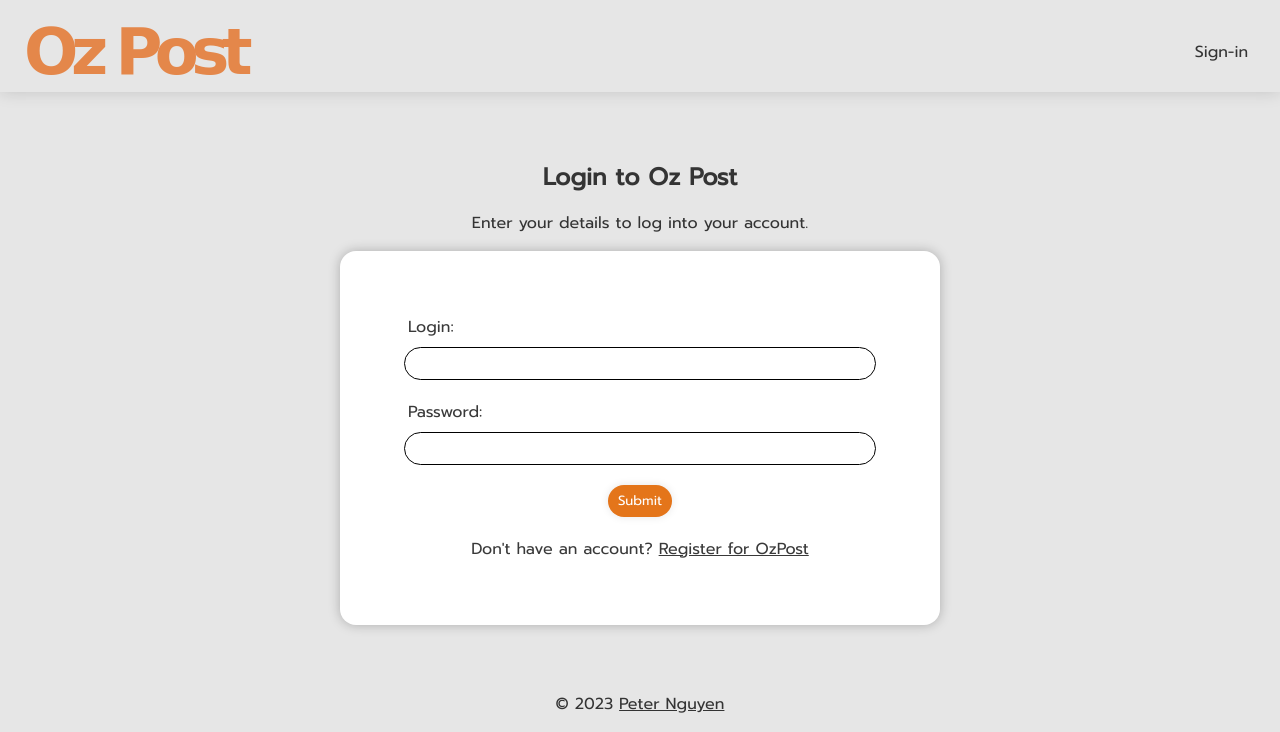
Test: Oz Post Login Page › should display errors on missing inputs
Expected: the heading "Oz Post" is shown, [24,20,245,84]
Click the submit button. click: {"x": 640, "y": 501}
box: [608,485,671,517]
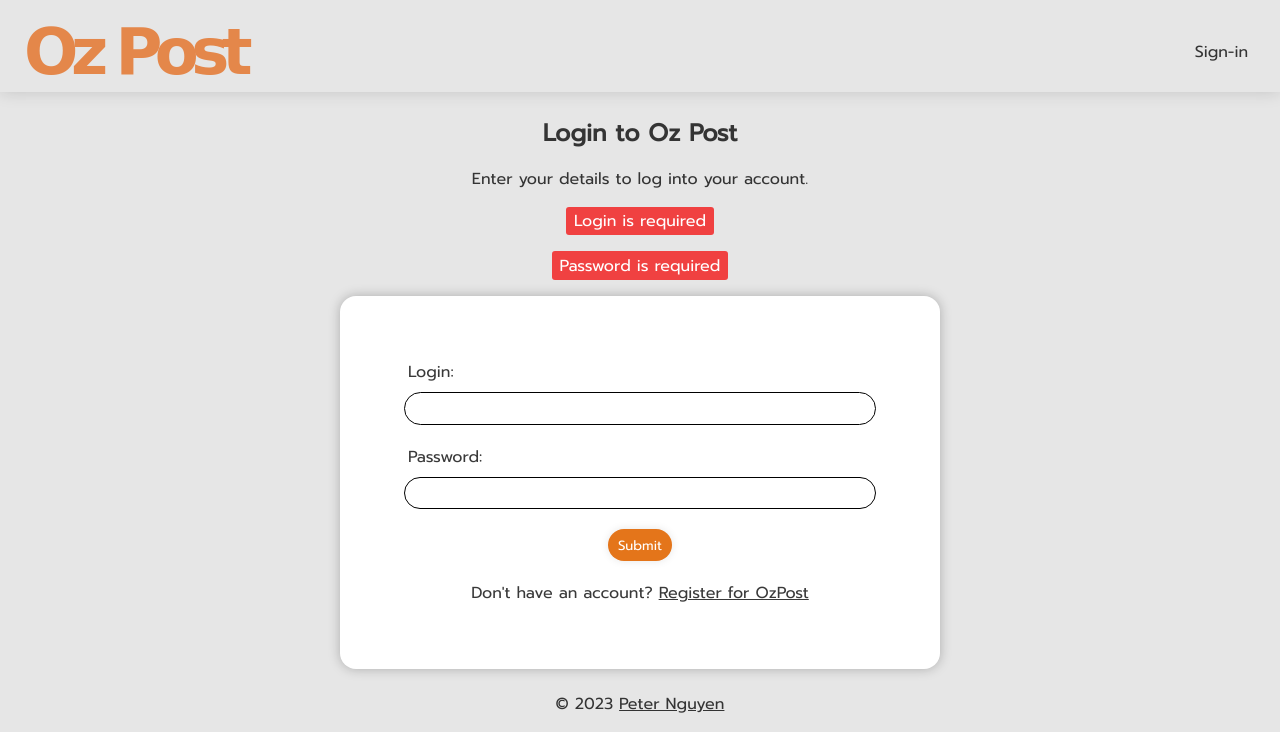
Result: the text "Login is required" is shown at [566,206,714,235]
Result: the text "Password is required" is shown at [552,251,728,280]
